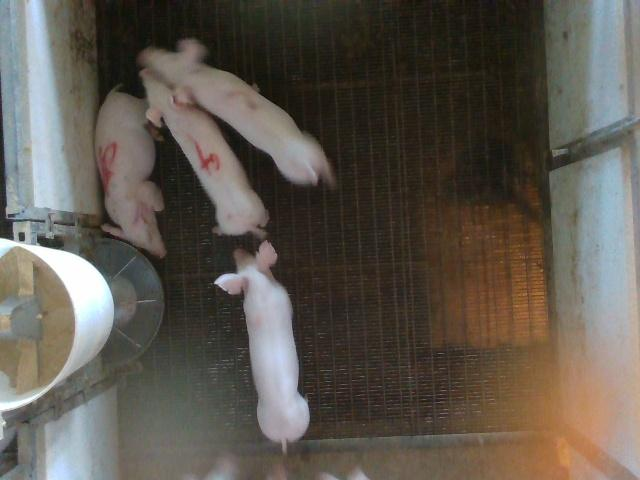pig-2: (138, 40, 335, 186)
pig-4: (140, 70, 269, 237)
pig-5: (95, 88, 166, 258)
